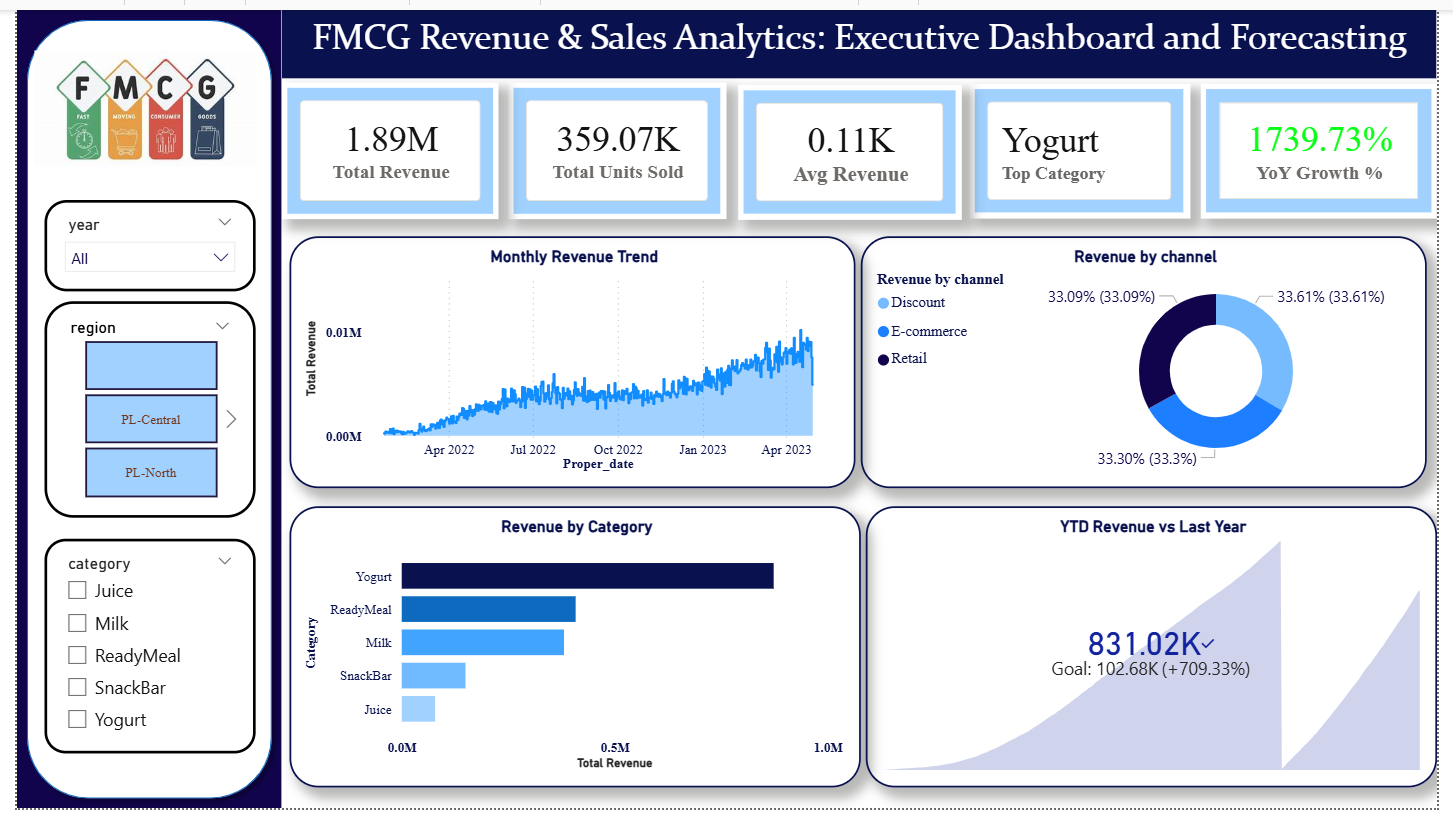

The page's visual inventory and layout, read from the dashboard file:
{"tool":"powerbi","page":{"name":"EXECUTIVE OVERVIEW","canvas":[1280,720],"ordinal":0},"visuals":[{"type":"textbox","box":[239.2,0,1041,61.6],"z":0},{"type":"cardVisual","fields":{"Data":["fmcg_clean_final.Top Category"]},"box":[858.6,66.3,199,122],"z":1000},{"type":"cardVisual","fields":{"Data":["fmcg_clean_final.YoY Growth %"]},"box":[1067.1,66.3,213.2,122],"z":2000},{"type":"cardVisual","fields":{"Data":["fmcg_clean_final.Total Units Sold"]},"box":[442.9,65.1,196.6,123.2],"z":3000},{"type":"cardVisual","fields":{"Data":["fmcg_clean_final.Total Revenue"]},"box":[239.2,65.1,195.4,123.2],"z":4000},{"type":"slicer","fields":{"Values":["fmcg_clean_final.category"]},"box":[24.9,489.1,214.4,80.5],"z":5000},{"type":"shape","box":[0,0,238.8,720],"z":6000},{"type":"barChart","title":"Revenue by Category","fields":{"Y":["fmcg_clean_final.Total Revenue"],"Category":["fmcg_clean_final.category"]},"box":[245.2,447.7,515.2,253.4],"z":7000},{"type":"lineChart","title":"Monthly Revenue Trend","fields":{"Category":["fmcg_clean_final.proper_date"],"Y":["fmcg_clean_final.Total Revenue"]},"box":[245.2,203.7,510.4,227.4],"z":8000},{"type":"donutChart","title":"Revenue by channel","fields":{"Y":["fmcg_clean_final.Total Revenue"],"Category":["fmcg_clean_final.channel"]},"box":[760.3,203.7,510.4,227.4],"z":9000},{"type":"slicer","fields":{"Values":["fmcg_clean_final.year"]},"box":[25,171.2,190,82.5],"z":10000},{"type":"slicer","fields":{"Values":["fmcg_clean_final.region"]},"box":[25,262.5,190,195],"z":11000},{"type":"image","box":[15.4,15.4,200.1,146.9],"z":12000},{"type":"cardVisual","fields":{"Data":["fmcg_clean_final.Avg Revenue"]},"box":[650.2,67.5,201.3,122],"z":14000},{"type":"kpi","title":"YTD Revenue vs Last Year","fields":{"Indicator":["DateTable.YTD Revenue"],"TrendLine":["DateTable.Date"],"Goal":["DateTable.Last Year YTD Revenue"]},"box":[765.1,447.7,515.2,253.4],"z":15000},{"type":"slicer","fields":{"Values":["fmcg_clean_final.category"]},"box":[25,476.2,190,193.8],"z":16000}]}

Visuals, with their boxes in screenshot pixels (x1, y1, x2, y2), scaled from the page's 1280x720 canvas onto the 1453x815 screenshot:
textbox: crop(272, 0, 1452, 70)
cardVisual - fmcg_clean_final.Top Category: crop(975, 75, 1201, 213)
cardVisual - fmcg_clean_final.YoY Growth %: crop(1211, 75, 1452, 213)
cardVisual - fmcg_clean_final.Total Units Sold: crop(503, 74, 726, 213)
cardVisual - fmcg_clean_final.Total Revenue: crop(272, 74, 493, 213)
slicer - fmcg_clean_final.category: crop(28, 554, 272, 645)
shape: crop(0, 0, 271, 814)
"Revenue by Category" barChart: crop(278, 507, 863, 794)
"Monthly Revenue Trend" lineChart: crop(278, 231, 858, 488)
"Revenue by channel" donutChart: crop(863, 231, 1442, 488)
slicer - fmcg_clean_final.year: crop(28, 194, 244, 287)
slicer - fmcg_clean_final.region: crop(28, 297, 244, 518)
image: crop(17, 17, 245, 184)
cardVisual - fmcg_clean_final.Avg Revenue: crop(738, 76, 967, 215)
"YTD Revenue vs Last Year" kpi: crop(869, 507, 1452, 794)
slicer - fmcg_clean_final.category: crop(28, 539, 244, 758)
